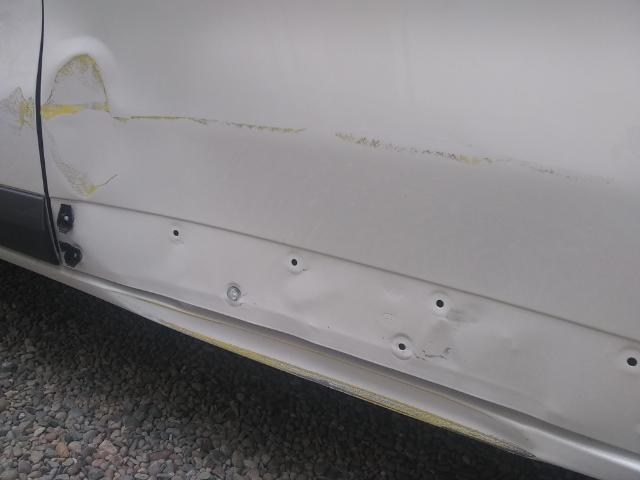dent: (40, 56, 640, 445)
scratch: (0, 86, 34, 130)
